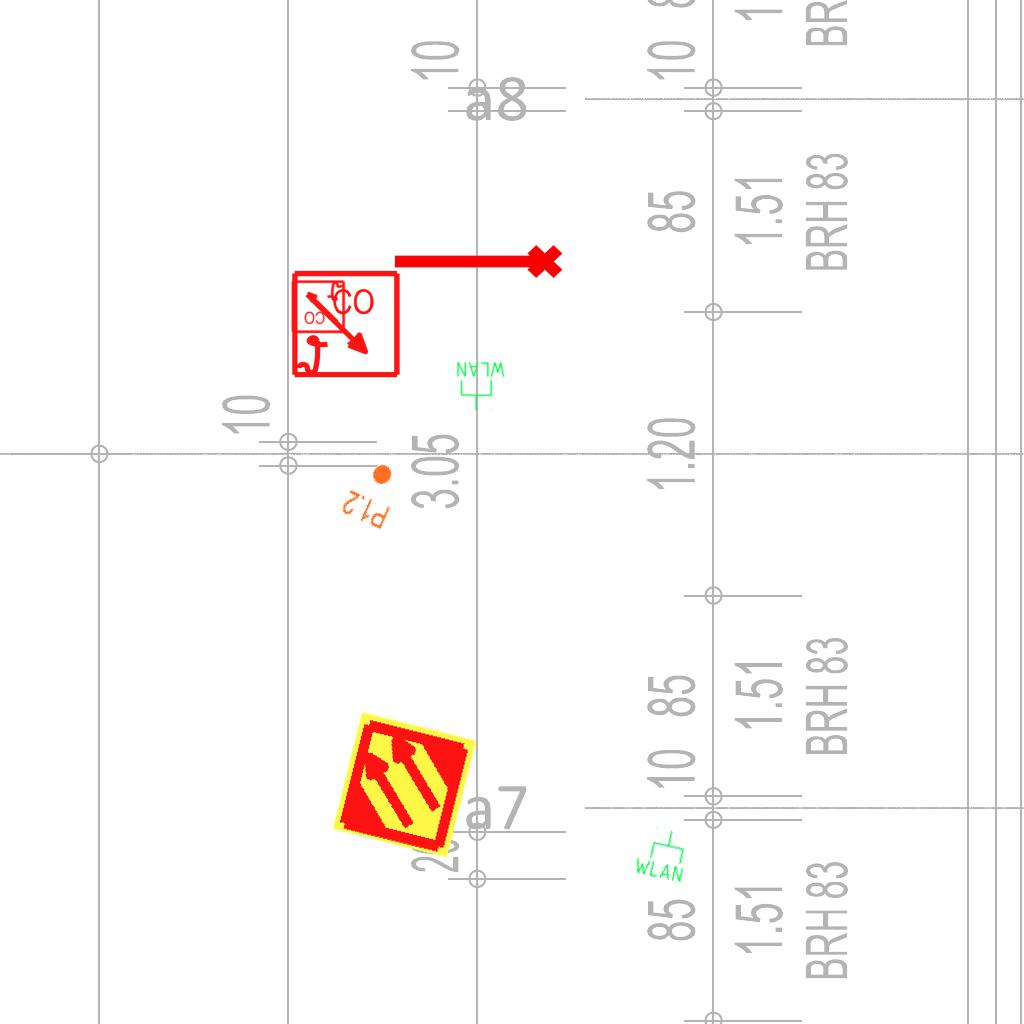ASR_Ansaugoeffnung: (389, 241, 565, 287)
ASR_Ansaugrauchmelder: (328, 708, 481, 861)
Downlight_LED_Einbauleuchten_Flur: (338, 454, 408, 532)
ROA_Rauchmelder_optisch_mit_Signalgeber_(Sockelsirene): (290, 269, 403, 382), (290, 278, 346, 334)
WLAN: (631, 823, 693, 885), (455, 360, 507, 412)
